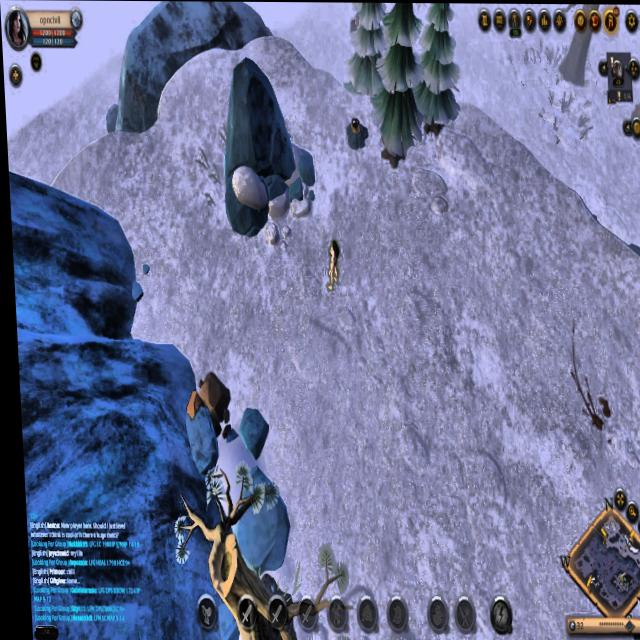copper_ore: (340, 115, 372, 150)
limestone: (181, 367, 233, 434)
